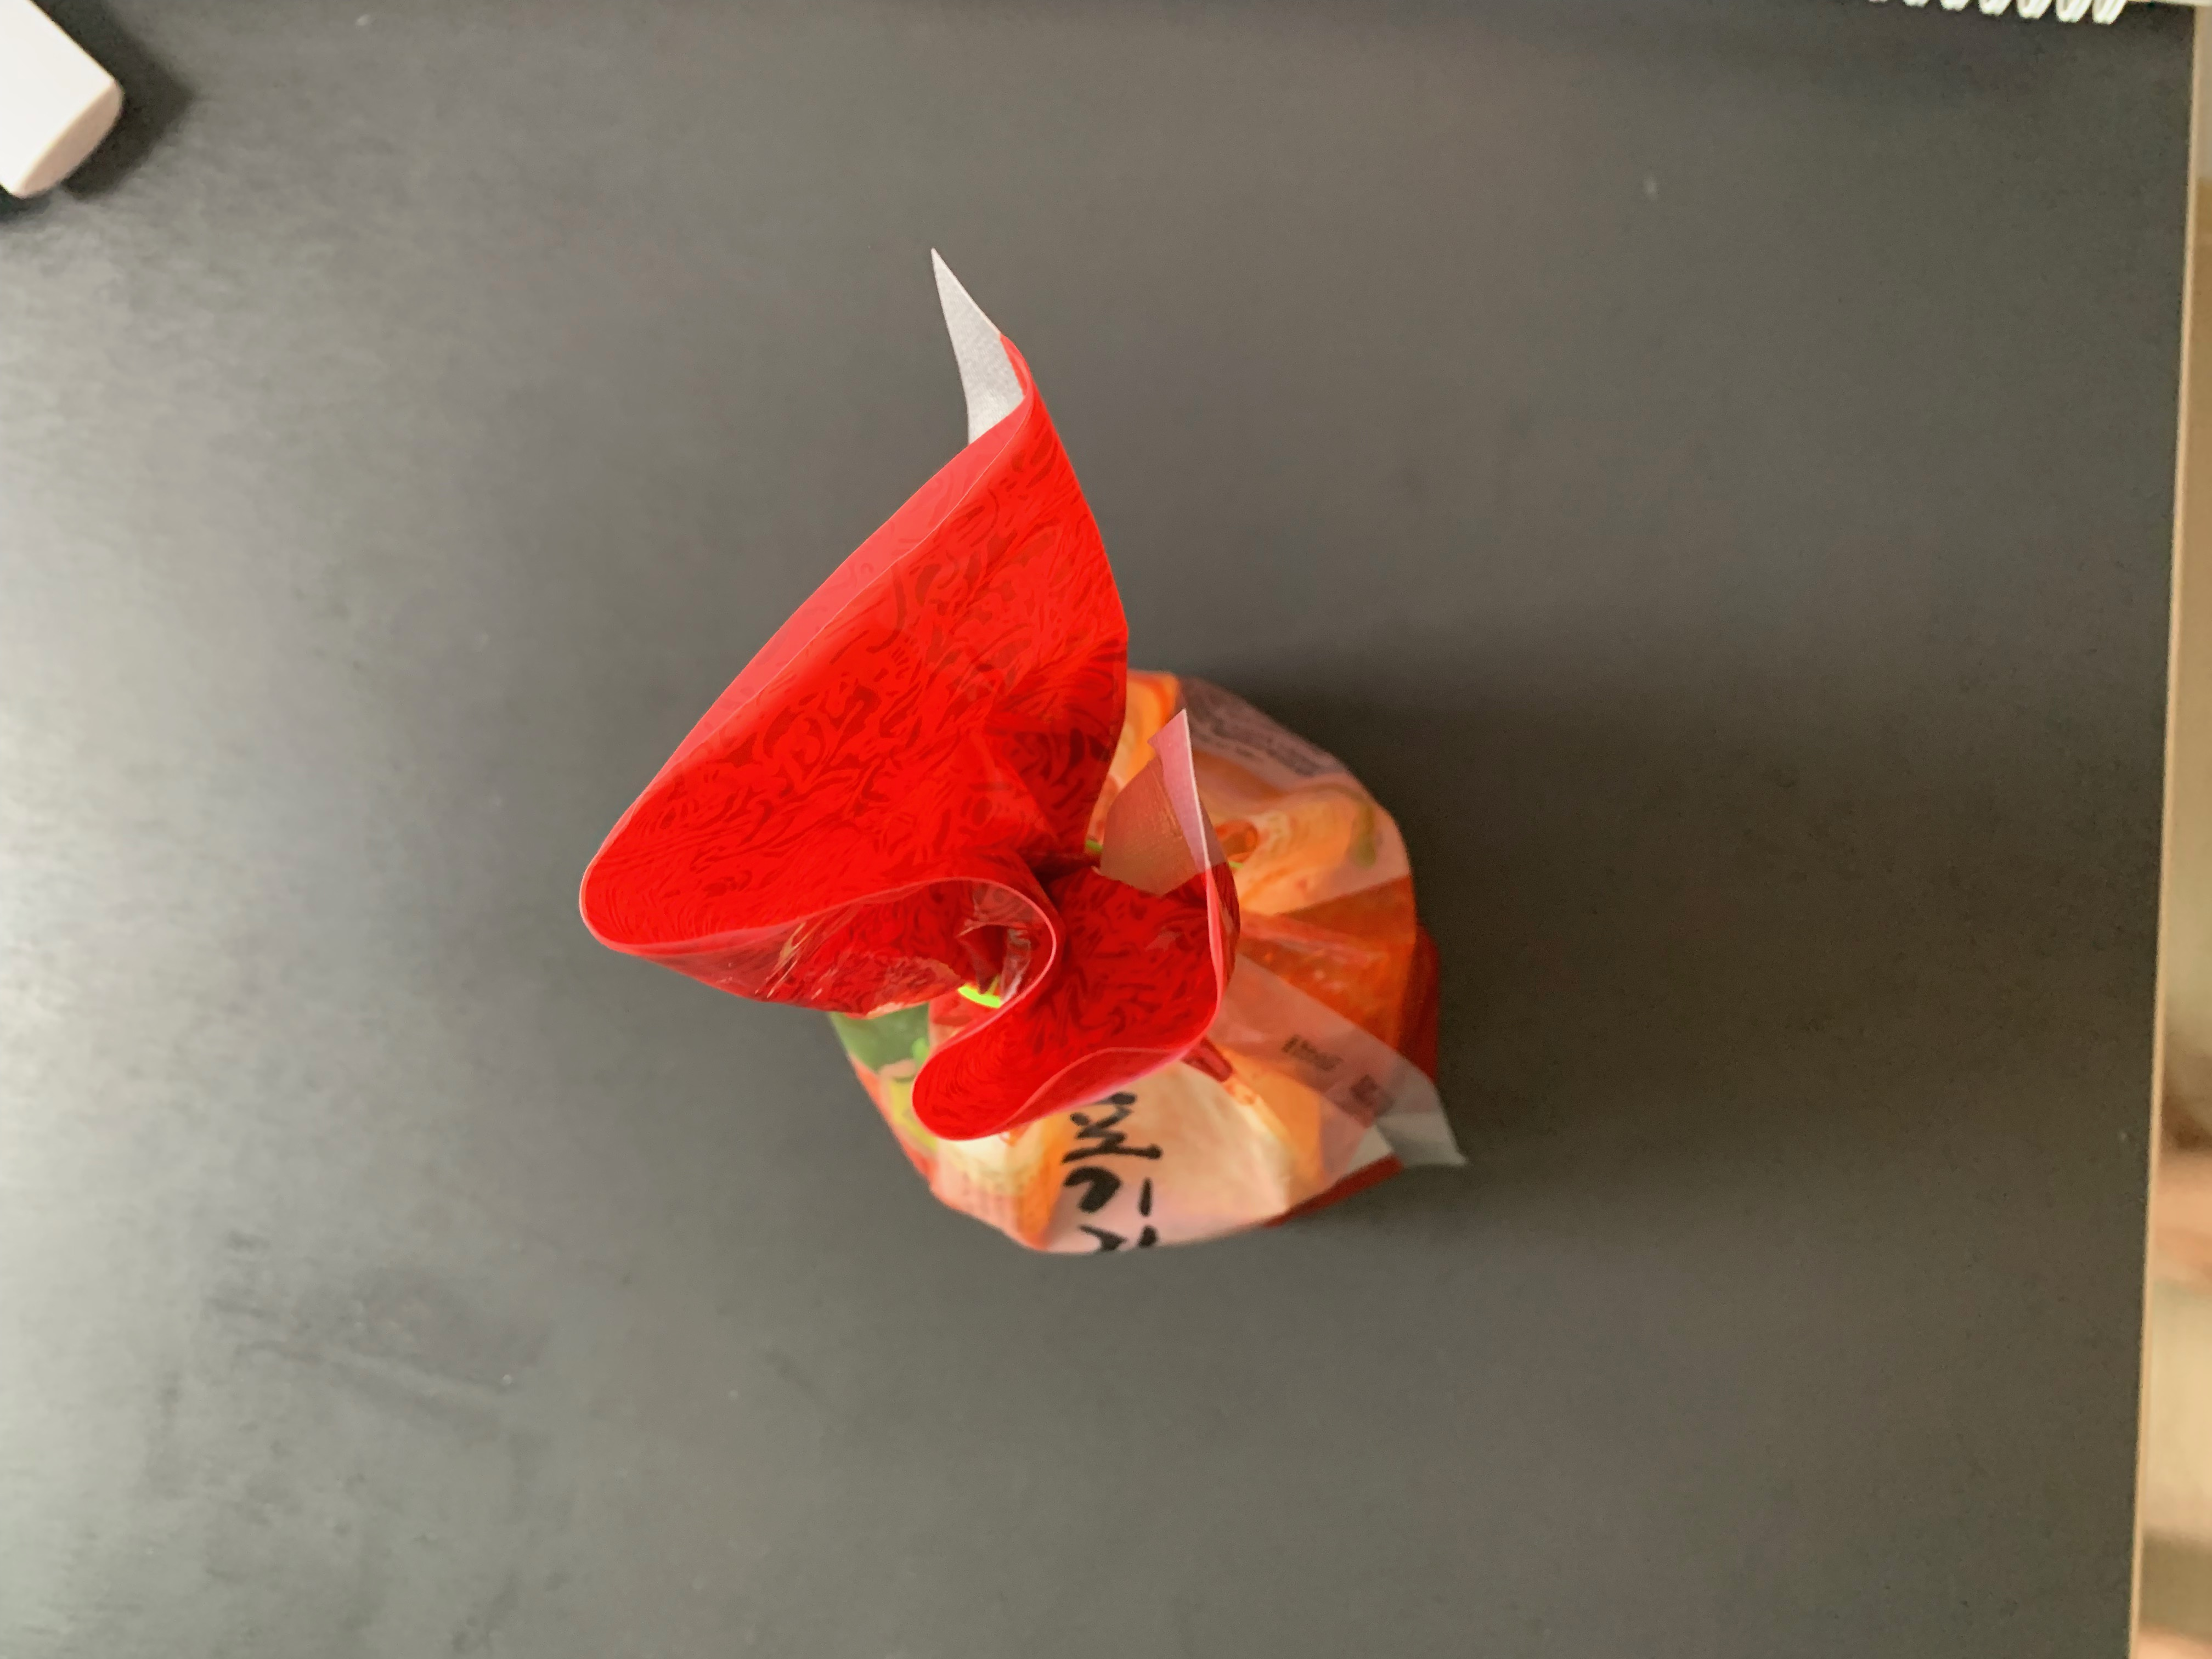kimchi: (585, 390, 1440, 1251)
